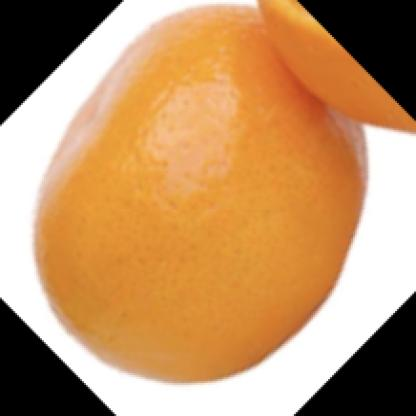fresh: (34, 4, 364, 384)
